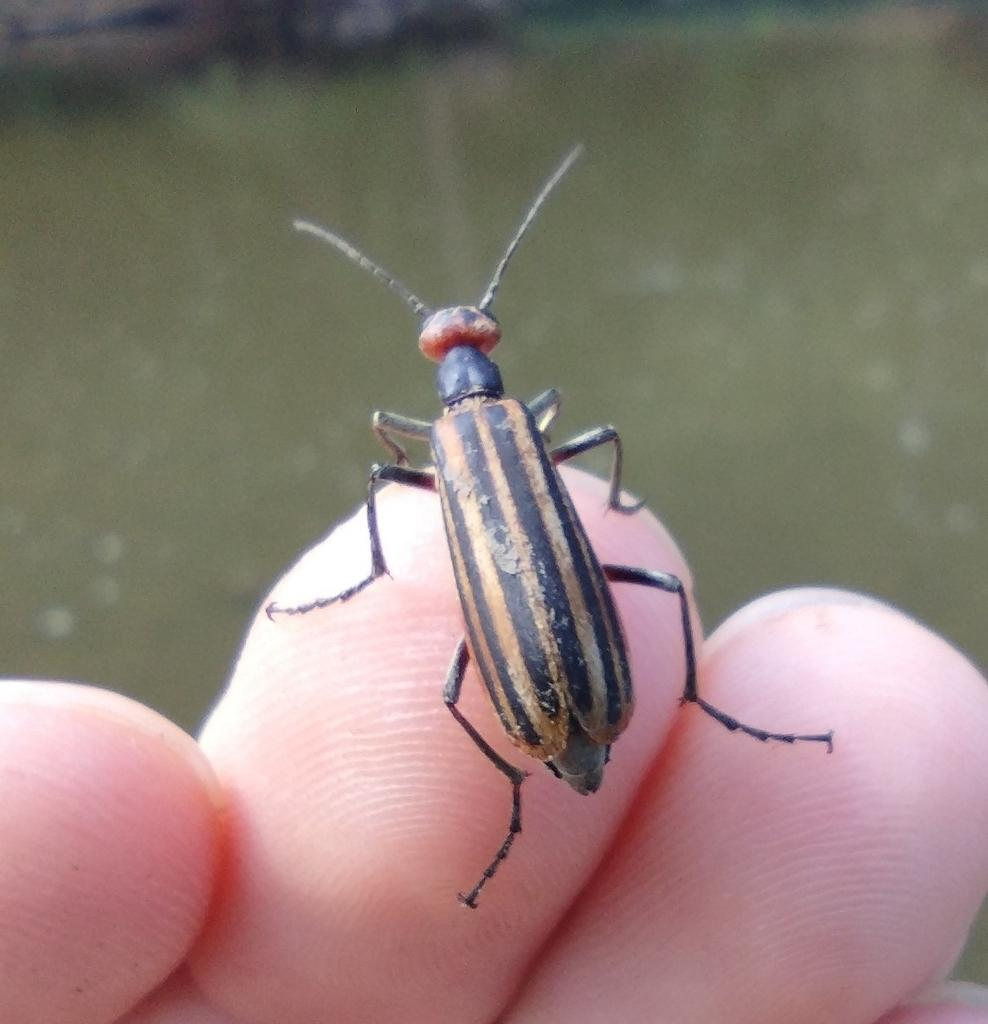blister_beetle: (178, 65, 876, 983)
